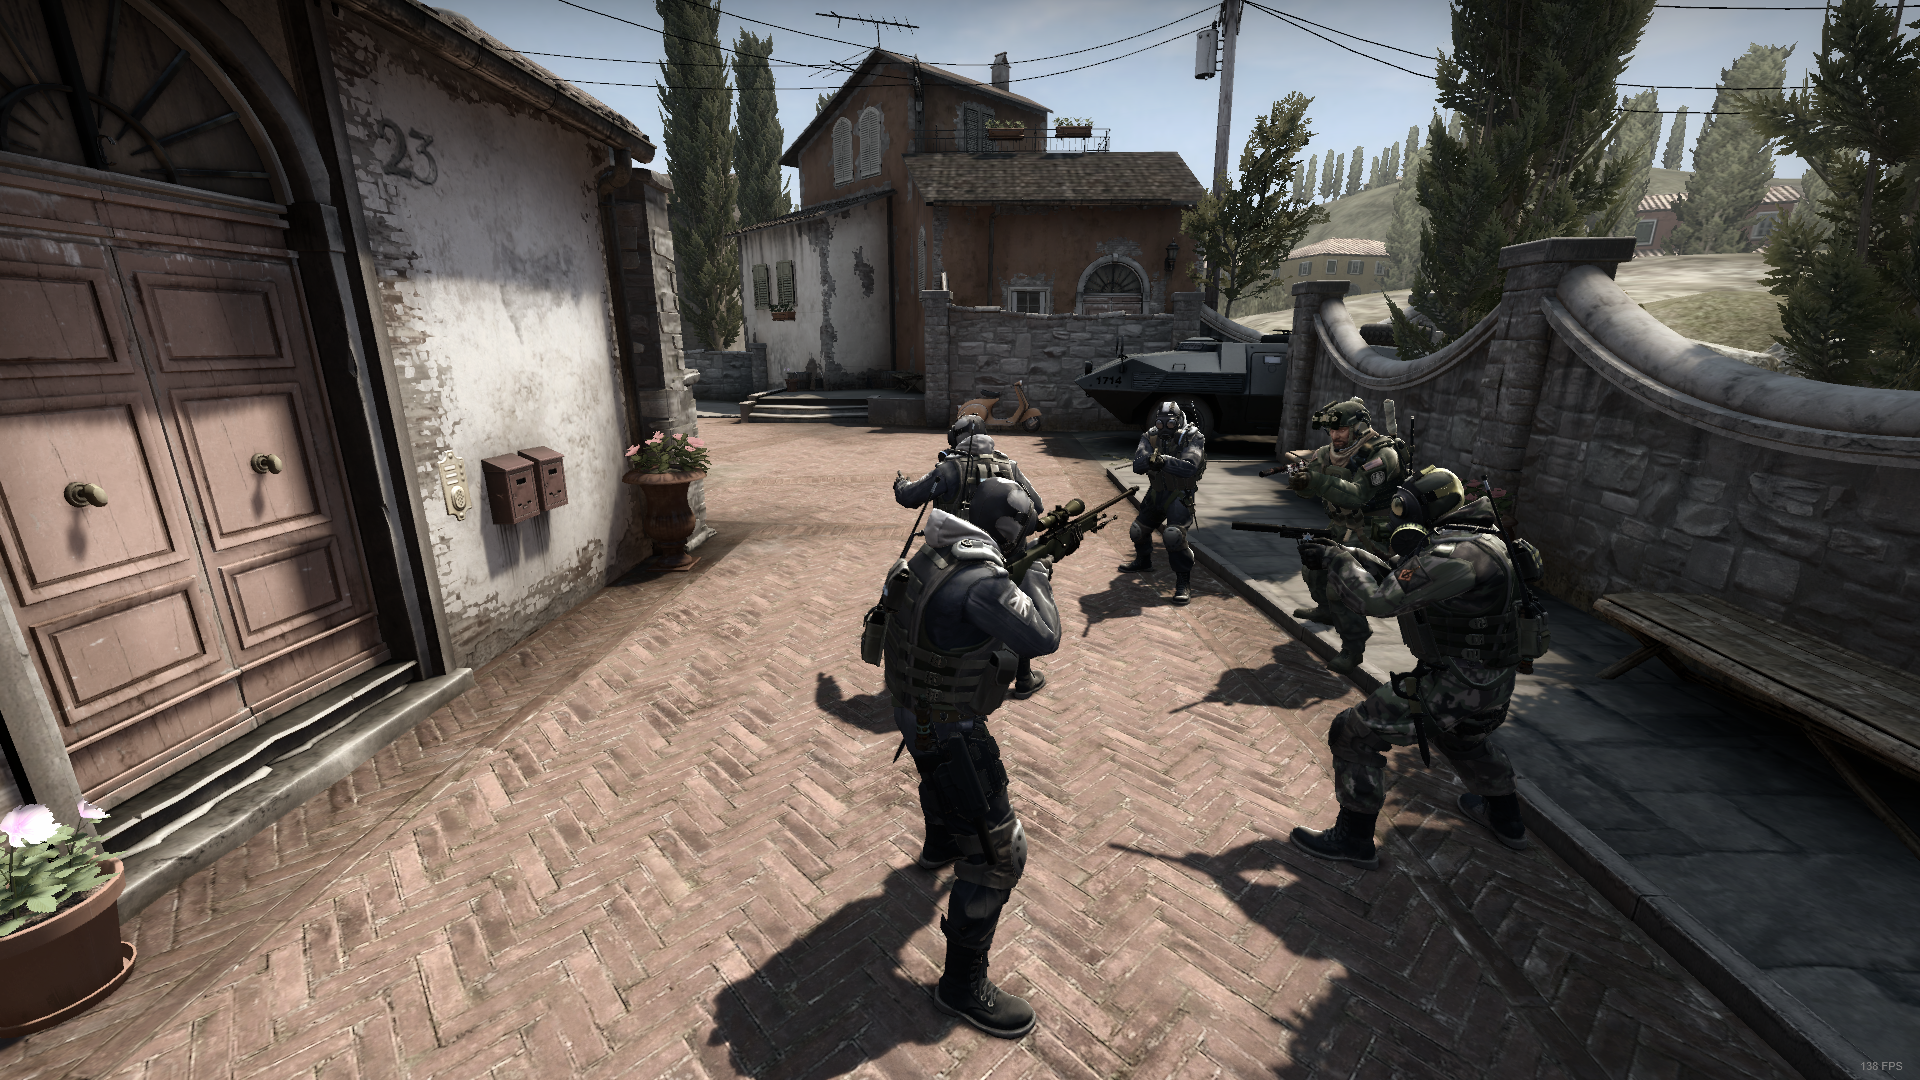ct: (1275, 464, 1553, 884), (868, 472, 1069, 1047), (886, 417, 1052, 703), (1112, 394, 1215, 601)
